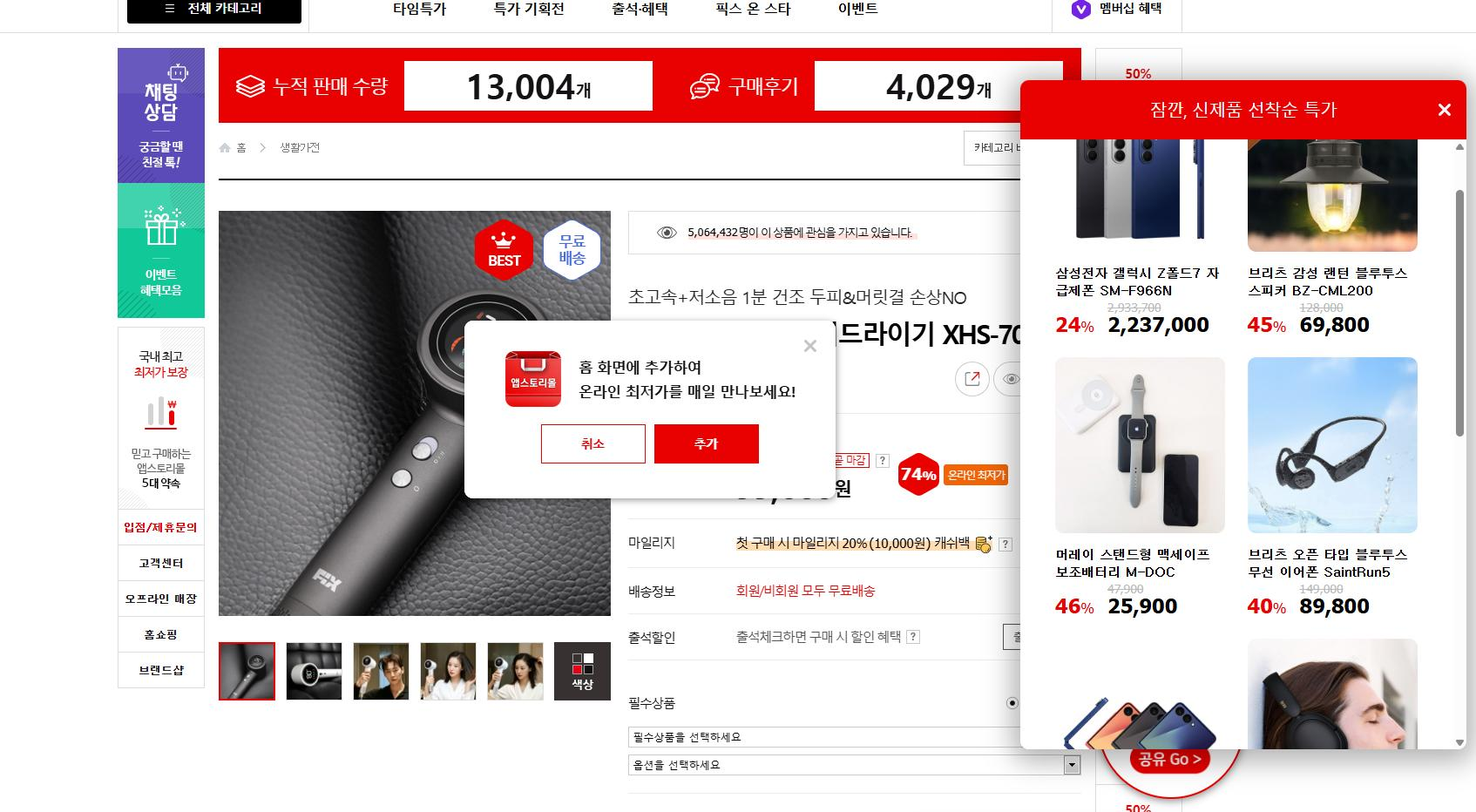button: (128, 0, 302, 26), (653, 423, 759, 464), (539, 424, 647, 462), (217, 643, 278, 703), (487, 643, 545, 704), (420, 642, 478, 703), (286, 641, 344, 699), (353, 644, 410, 700), (1065, 0, 1175, 22), (710, 0, 802, 25), (605, 0, 680, 24), (490, 0, 575, 21), (389, 0, 457, 26), (832, 0, 904, 21), (800, 332, 825, 359), (1432, 100, 1456, 119)
checkbox: (628, 757, 1080, 778)
popup: (1023, 80, 1466, 749), (464, 321, 841, 499), (119, 46, 207, 690)
